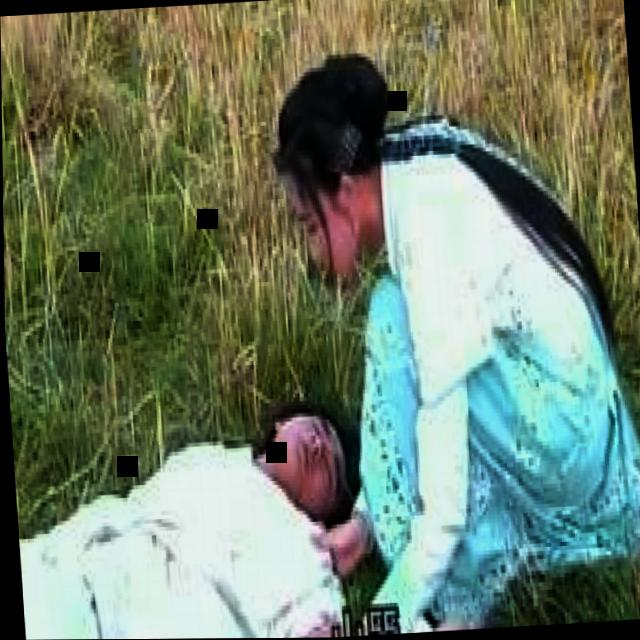Fall-Detected: (8, 381, 399, 640)
